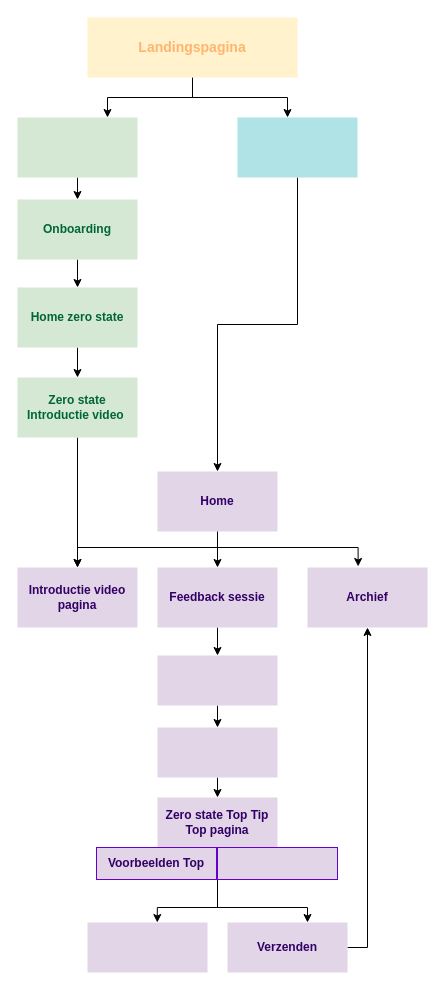
Some shapes in this 444 by 989 pixel diagram are drawn without their labels. Here are the shapes that lost their labels. From the top down, the centre of each, then its label:
At point (77, 147): "Registratie pagina".
At point (297, 147): "Inlog pagina".
At point (217, 680): "Keuze pagina".
At point (217, 752): "Feedback partner matchen".
At point (277, 863): "Voorbeelden Tip".
At point (147, 947): "Toevoegen Top Tip Top".
